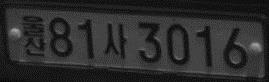0: (165, 23, 191, 65)
1: (75, 17, 97, 59), (194, 23, 214, 68)
3: (136, 19, 163, 64)
6: (222, 25, 250, 70)
8: (47, 15, 74, 58)
사: (102, 21, 128, 60)
울산_V: (20, 13, 47, 58)
